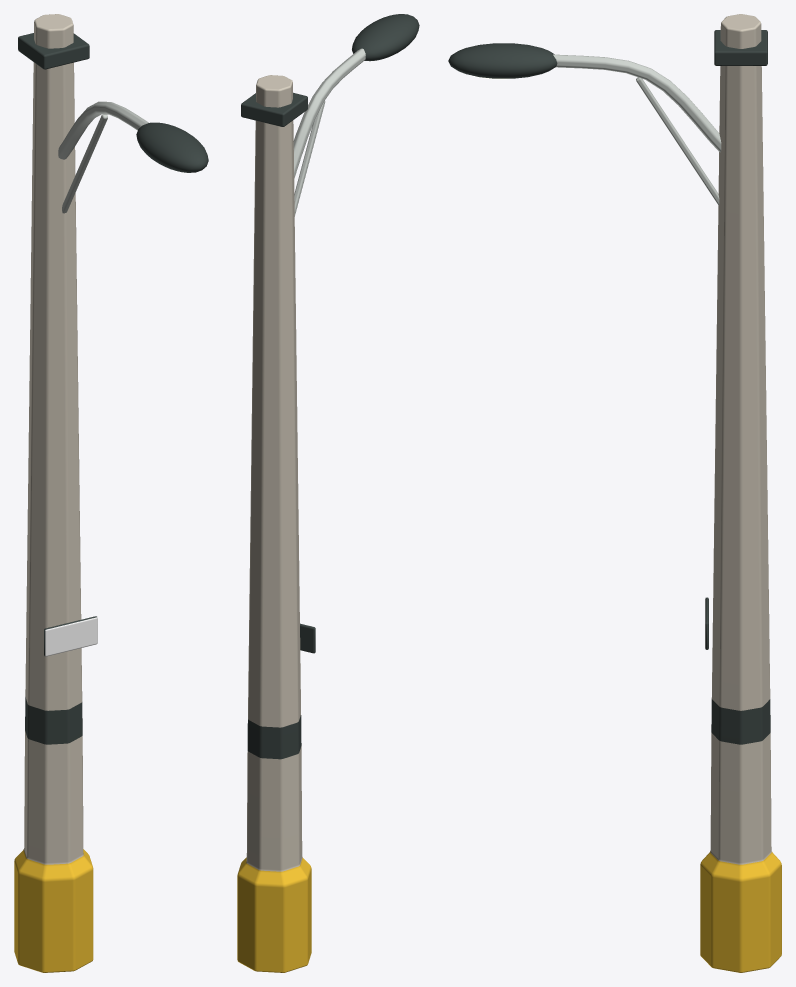
Rendered from prop_poste_short.glb.
3 renders of one model, left to right at view 1: azimuth 30°, elevation 25°; view 2: azimuth 150°, elevation 25°; view 3: azimuth 270°, elevation 25°, orthographic. The views are drawn at different scales.
Visible parts, largest first — view 1: prop_poste_short; view 2: prop_poste_short; view 3: prop_poste_short.
Part boxes in pixels (x1,y1,x2,y2): prop_poste_short: (14,14,208,972); prop_poste_short: (237,14,419,972); prop_poste_short: (448,14,781,972).
Size of the model in its own units: 0.3955 by 5 by 1.62.
